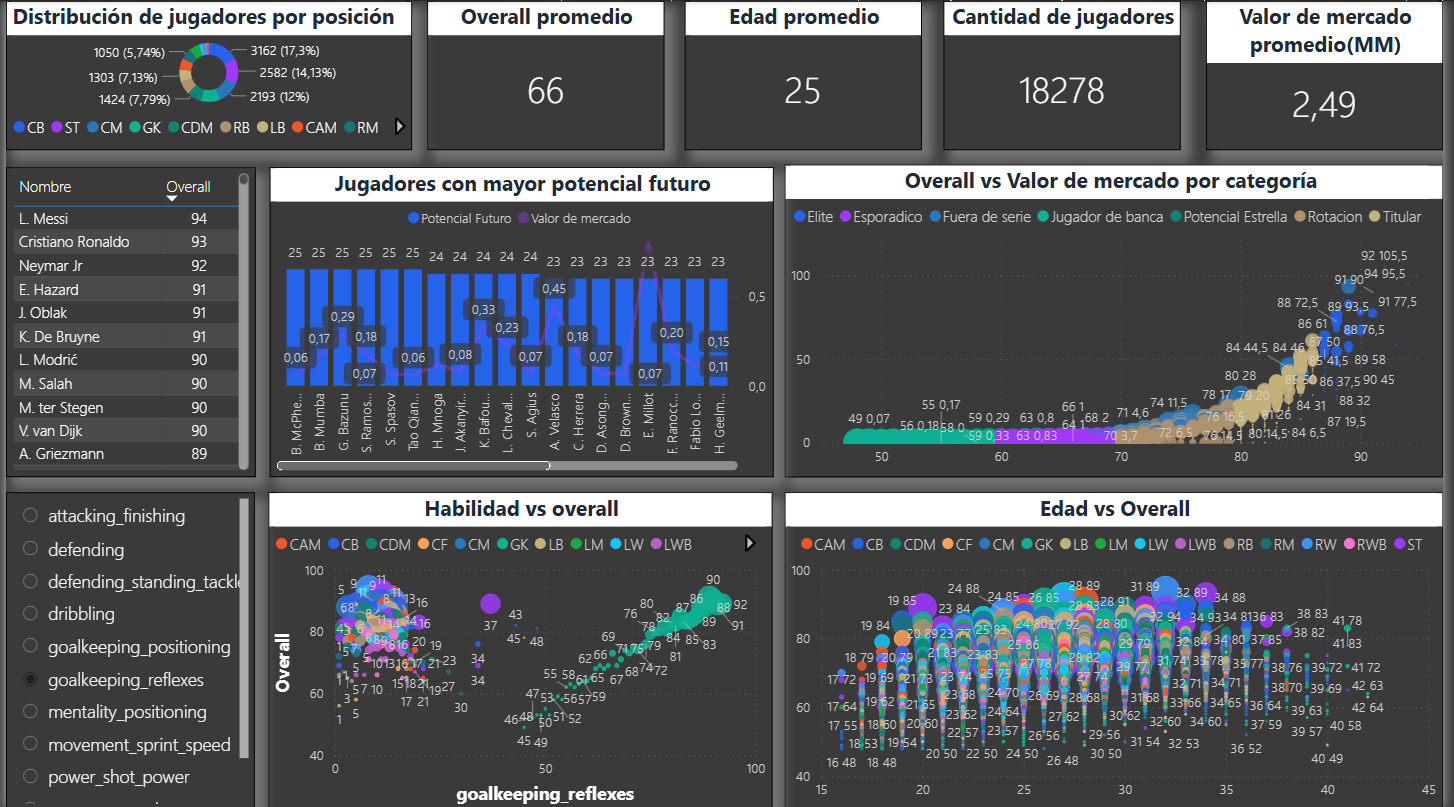

The page's visual inventory and layout, read from the dashboard file:
{"tool":"powerbi","page":{"name":"Page 1","canvas":[1280,720],"ordinal":0},"visuals":[{"type":"card","title":"Cantidad de jugadores","fields":{"Values":["191315_2 (3) csv.name"]},"box":[834.7,0,211.5,133],"z":0},{"type":"card","title":"Overall promedio","fields":{"Values":["191315_2 (3) csv.overall"]},"box":[375.7,0,211.5,133.1],"z":1000},{"type":"card","title":"Edad promedio","fields":{"Values":["191315_2 (3) csv.age"]},"box":[604.6,0,211.5,133],"z":2000},{"type":"tableEx","fields":{"Values":["191315_2 (3) csv.name","191315_2 (3) csv.overall"]},"box":[0,148.5,222.1,276.1],"z":3000},{"type":"donutChart","title":"Distribución de jugadores por posición","fields":{"Y":["191315_2 (3) csv.name"],"Category":["191315_2 (3) csv.player_positions.1"]},"box":[0,0,362,132.5],"z":4000},{"type":"scatterChart","title":"Edad vs Overall","fields":{"Y":["191315_2 (3) csv.overall"],"X":["191315_2 (3) csv.age"],"Series":["191315_2 (3) csv.player_positions.1"],"Size":["191315_2 (3) csv.value_eur.1"]},"box":[693.3,437,586.7,283.9],"z":5000},{"type":"scatterChart","title":"Overall vs Valor de mercado por categoría","fields":{"Size":["191315_2 (3) csv.Max Future Potencial"],"Y":["191315_2 (3) csv.value_eur.1"],"X":["191315_2 (3) csv.overall"],"Series":["191315_2 (3) csv.Category"]},"box":[693.3,146,586.5,278.5],"z":6000},{"type":"scatterChart","title":"Habilidad vs overall","fields":{"X":["191315_2 (3) csv.goalkeeping_reflexes"],"Y":["191315_2 (3) csv.overall"],"Series":["191315_2 (3) csv.player_positions.1"],"Size":["191315_2 (3) csv.value_eur.1"]},"box":[234,437,449,283.9],"z":7000},{"type":"lineStackedColumnComboChart","title":"Jugadores con mayor potencial futuro","fields":{"Category":["191315_2 (3) csv.name"],"Y2":["191315_2 (3) csv.value_eur.1"],"Y":["191315_2 (3) csv.Max Future Potencial"]},"box":[234.4,148.5,449.1,276.1],"z":8000},{"type":"card","title":"Valor de mercado promedio(MM)","fields":{"Values":["191315_2 (3) csv.value_eur.1"]},"box":[1068.6,0,211.5,133],"z":9000},{"type":"slicer","fields":{"Values":["Skills Group.Skills Group"]},"box":[0,437,221.9,283.9],"z":10000}]}

Visuals, with their boxes in screenshot pixels (x1, y1, x2, y2), scaled from the page's 1280x720 canvas onto the 1454x807 screenshot:
"Cantidad de jugadores" card: <bbox>948, 0, 1188, 149</bbox>
"Overall promedio" card: <bbox>427, 0, 667, 149</bbox>
"Edad promedio" card: <bbox>687, 0, 927, 149</bbox>
tableEx - 191315_2 (3) csv.name x 191315_2 (3) csv.overall: <bbox>0, 166, 252, 476</bbox>
"Distribución de jugadores por posición" donutChart: <bbox>0, 0, 411, 149</bbox>
"Edad vs Overall" scatterChart: <bbox>788, 490, 1453, 806</bbox>
"Overall vs Valor de mercado por categoría" scatterChart: <bbox>788, 164, 1453, 476</bbox>
"Habilidad vs overall" scatterChart: <bbox>266, 490, 776, 806</bbox>
"Jugadores con mayor potencial futuro" lineStackedColumnComboChart: <bbox>266, 166, 776, 476</bbox>
"Valor de mercado promedio(MM)" card: <bbox>1214, 0, 1453, 149</bbox>
slicer - Skills Group.Skills Group: <bbox>0, 490, 252, 806</bbox>
